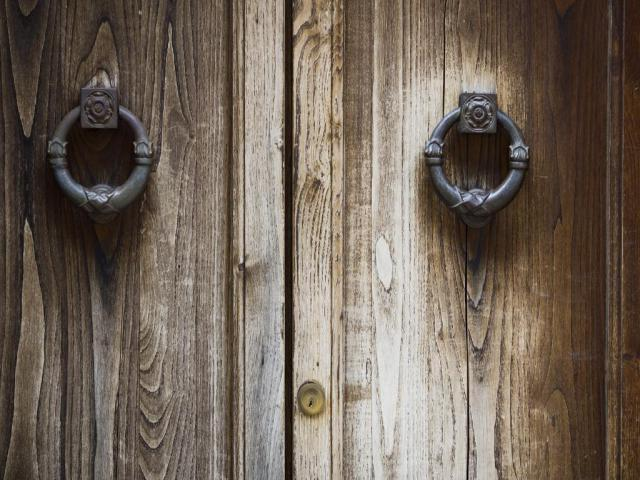Door-handle: (421, 88, 534, 229), (46, 87, 154, 225)
